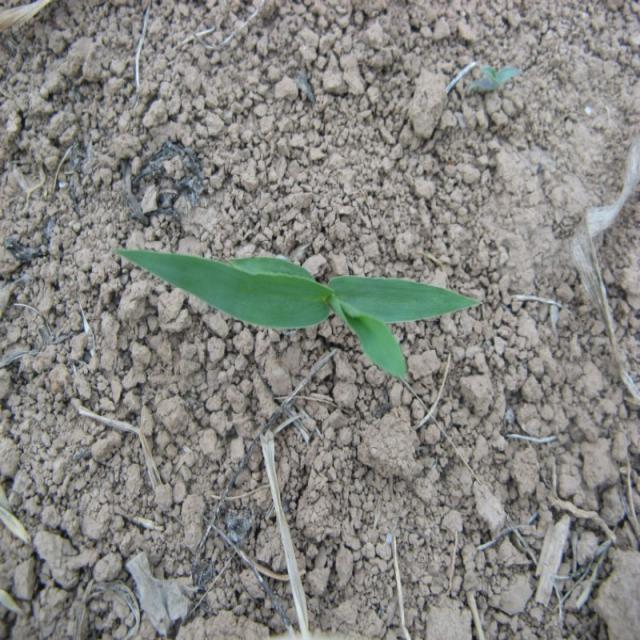bg: (116, 236, 486, 388)
